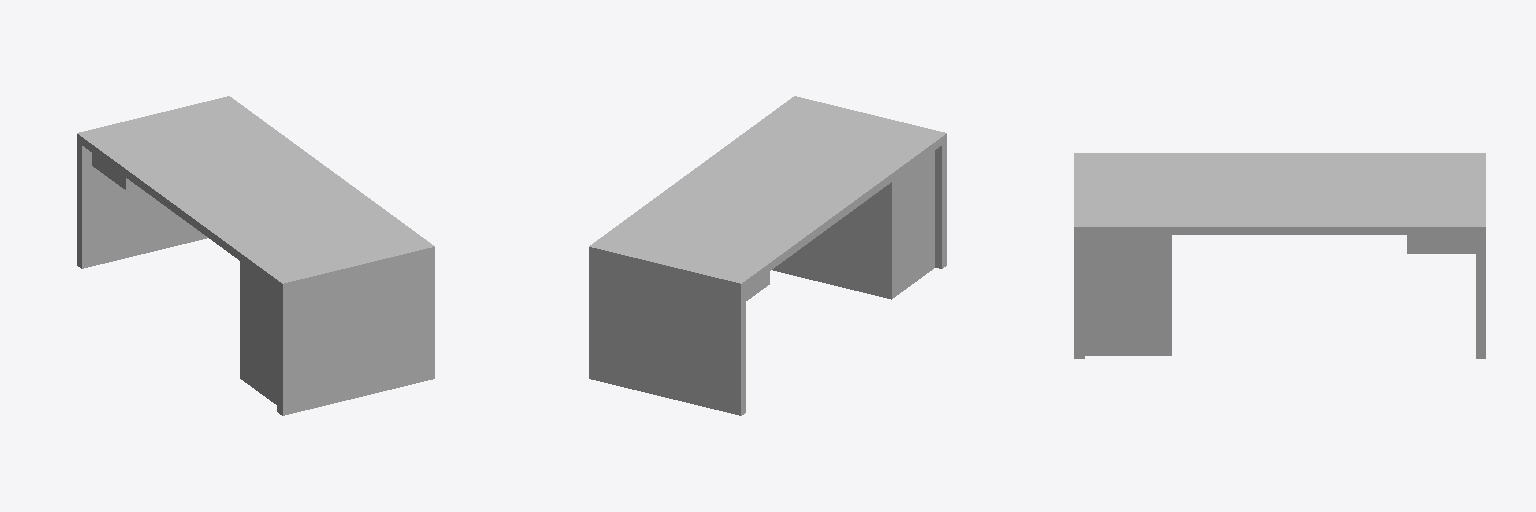
File: desk02.obj
The picture shows the model from 3 angles: view 1: azimuth 30°, elevation 25°; view 2: azimuth 150°, elevation 25°; view 3: azimuth 270°, elevation 25°; orthographic projection.
Visible parts, largest first — view 1: Desk2_Cube.007; view 2: Desk2_Cube.007; view 3: Desk2_Cube.007.
Boxes of the visible parts, x1=… form: Desk2_Cube.007: x1=77, y1=96, x2=434, y2=415; Desk2_Cube.007: x1=589, y1=96, x2=946, y2=415; Desk2_Cube.007: x1=1074, y1=153, x2=1485, y2=358.
Bounding box in the file's own units: 0.7204 × 0.5961 × 1.68.